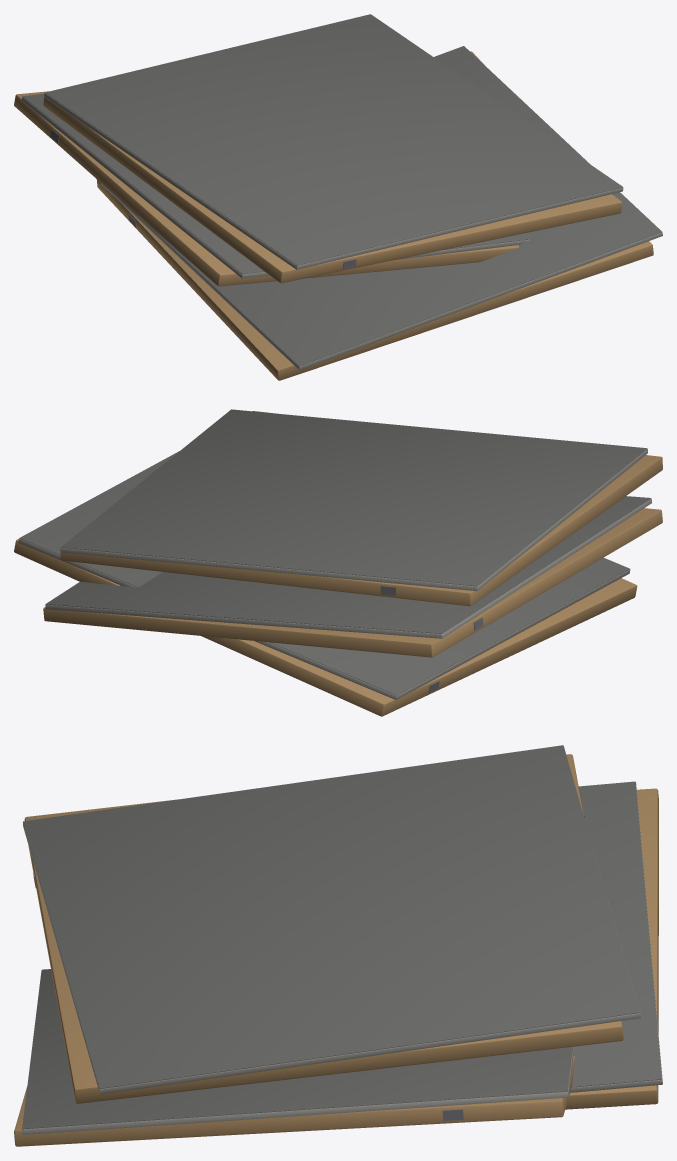
File: PIS-CER-004_anim.glb
The picture shows the model from 3 angles, top to bottom: view 1: azimuth 30°, elevation 25°; view 2: azimuth 150°, elevation 25°; view 3: azimuth 270°, elevation 25°; orthographic projection. The views are drawn at different scales.
Visible parts, largest first — view 1: PIS-CER-004_anim2, PIS-CER-004_anim0, PIS-CER-004_anim1; view 2: PIS-CER-004_anim2, PIS-CER-004_anim1, PIS-CER-004_anim0; view 3: PIS-CER-004_anim2, PIS-CER-004_anim0, PIS-CER-004_anim1.
Part boxes in pixels (x1,y1,x2,y2): PIS-CER-004_anim2: (43, 14, 623, 283); PIS-CER-004_anim0: (96, 46, 662, 380); PIS-CER-004_anim1: (14, 91, 533, 286); PIS-CER-004_anim2: (60, 409, 662, 606); PIS-CER-004_anim1: (43, 496, 662, 657); PIS-CER-004_anim0: (14, 451, 637, 716); PIS-CER-004_anim2: (23, 745, 640, 1103); PIS-CER-004_anim0: (14, 969, 574, 1146); PIS-CER-004_anim1: (565, 781, 662, 1109).
Bounding box in the file's own units: 0.9518 × 0.3408 × 0.947.
Materials: 6 (4 with a texture image).
